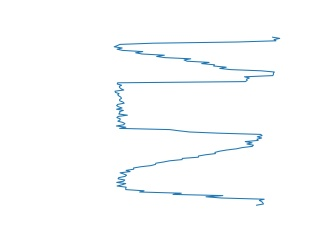distributaryChannelFill: (110, 73, 266, 142)
mouthBar: (113, 33, 280, 79)
underwaterDistributaryChannel: (114, 138, 268, 209)
